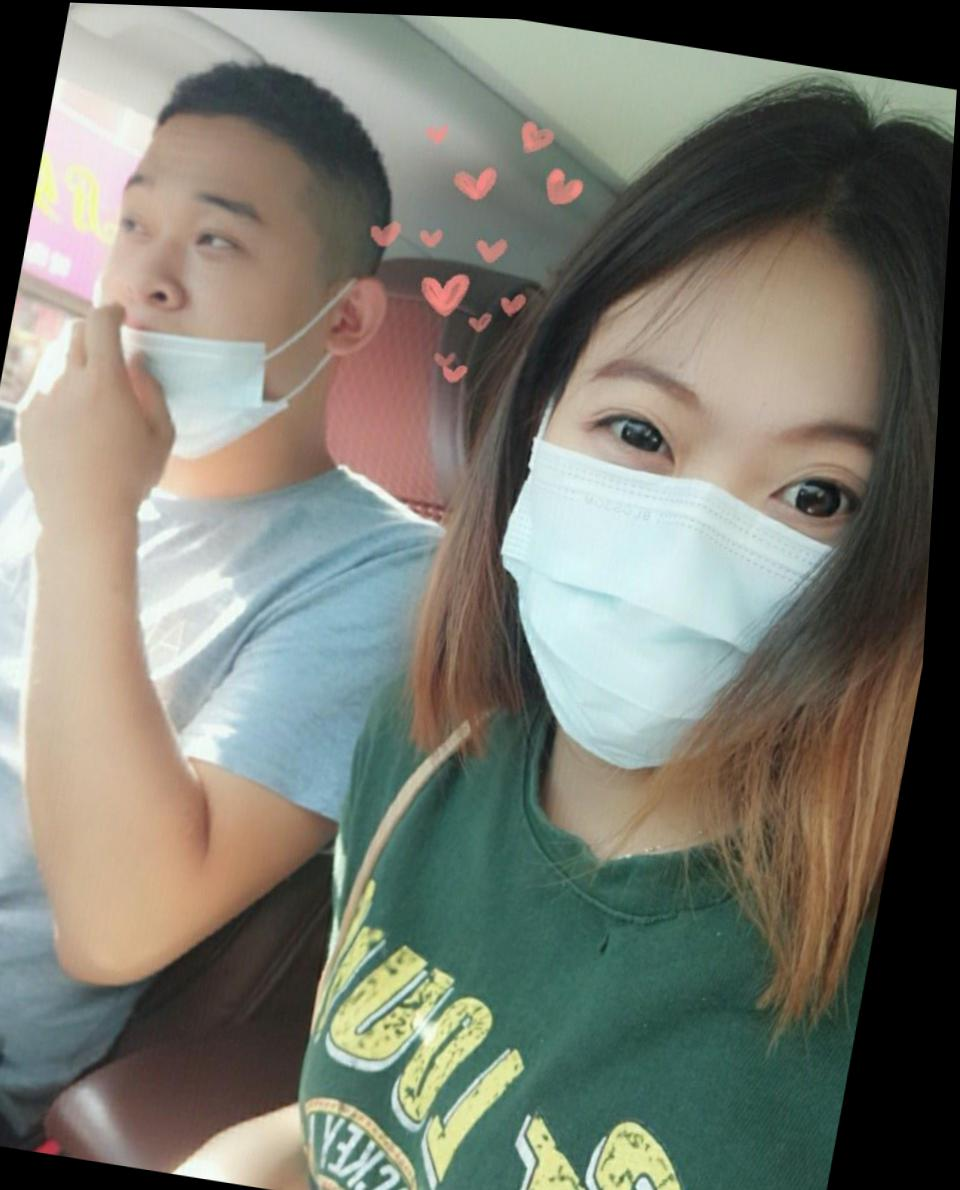OK: (469, 341, 921, 785)
WRONG: (80, 166, 368, 469)
